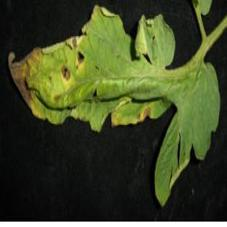Bacterial Spot: (8, 5, 176, 134)
